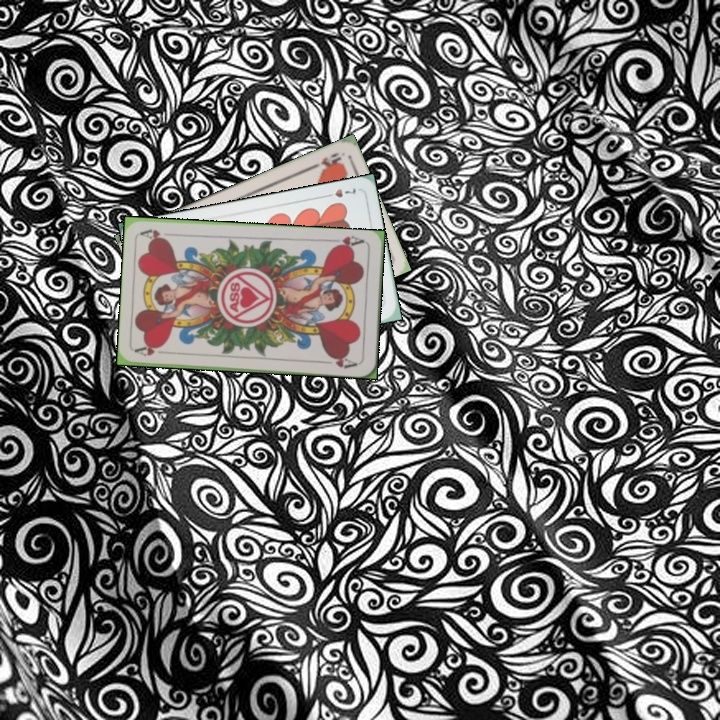H7: (320, 183, 359, 200)
HA: (327, 232, 367, 252), (132, 342, 165, 359)
HO: (306, 149, 344, 173)
